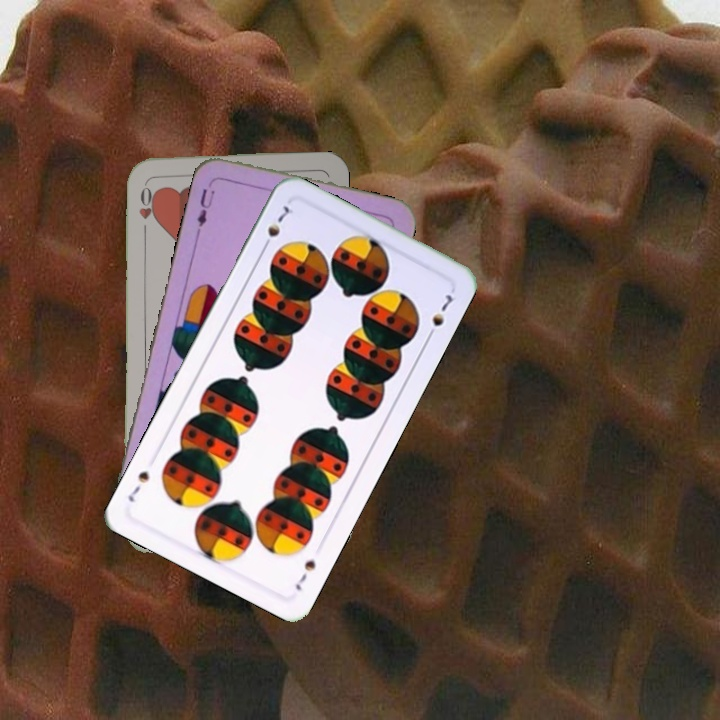EU: (192, 177, 218, 235)
HO: (135, 178, 155, 238)
S7: (258, 201, 296, 253), (291, 555, 319, 594)
